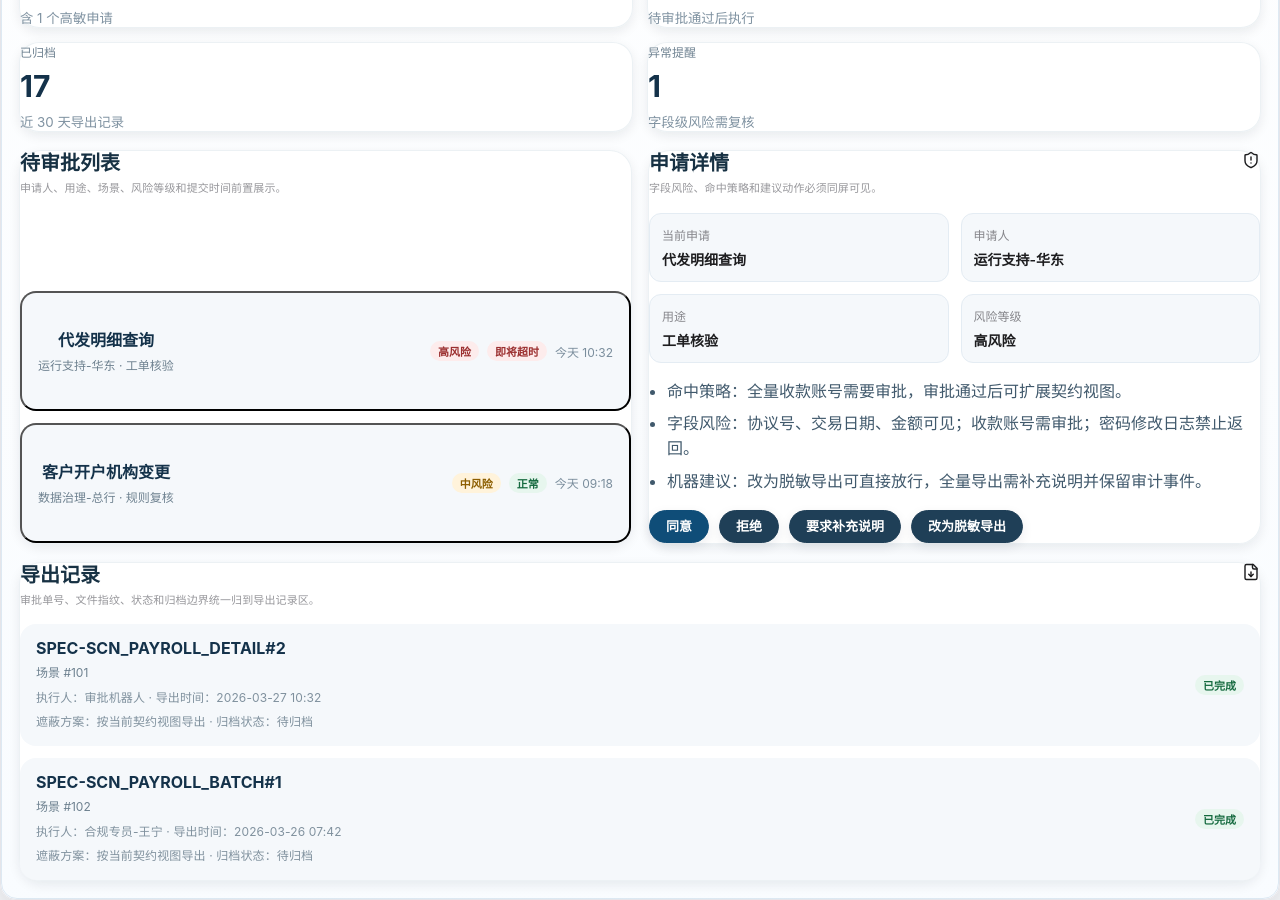
Test: ApprovalExportPage actions › uses the newly selected approval scene instead of the frozen context scene when exporting
The width and height of the screenshot is (1280, 900).
(page scrolled)
Check: the text "SPEC-SCN_PAYROLL_DETAIL#2" is shown, box [36, 638, 286, 658]
Click the button "客户开户机构变更" at (106, 472), box [20, 423, 631, 543]
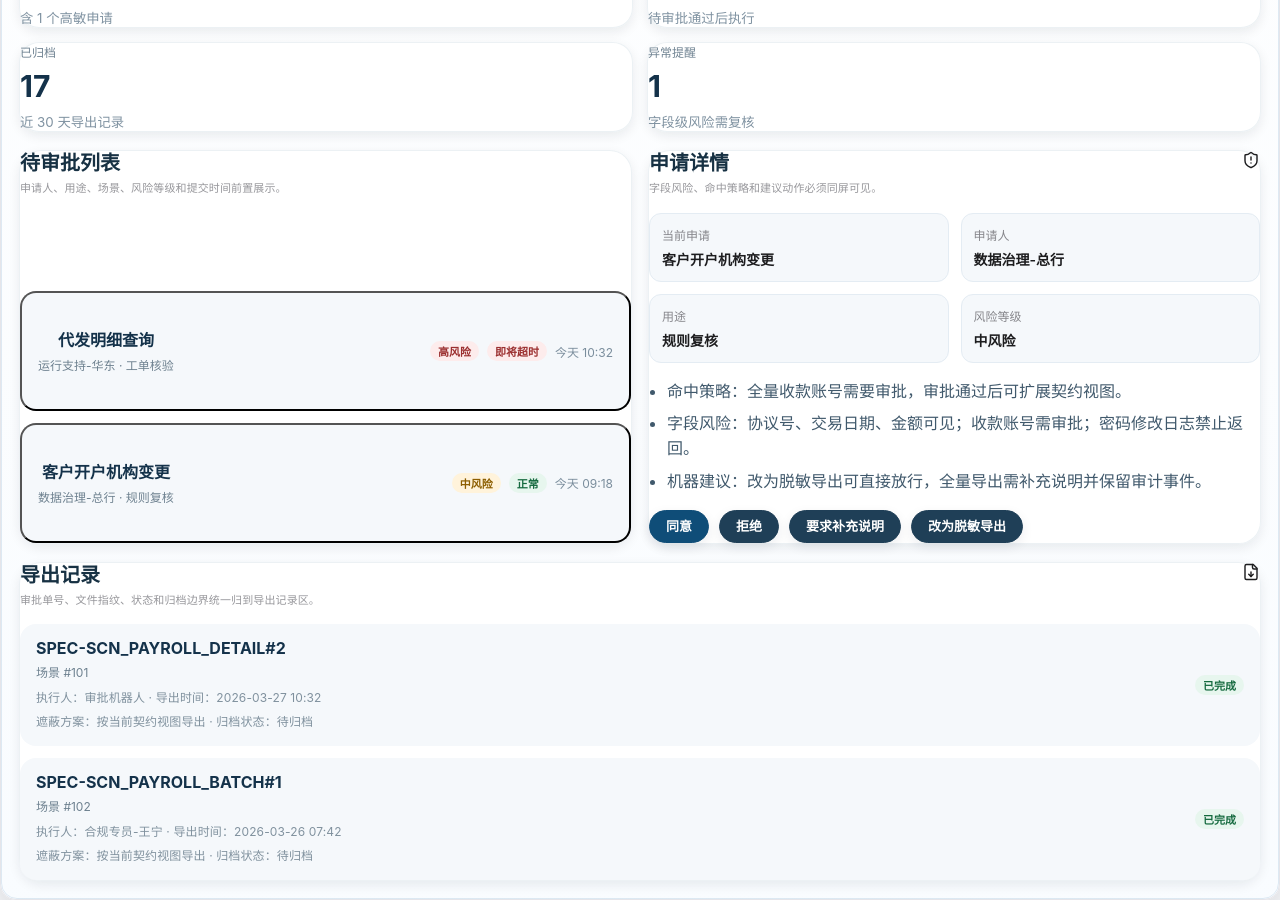
Click the button "改为脱敏导出" at (967, 526), box [911, 510, 1023, 543]
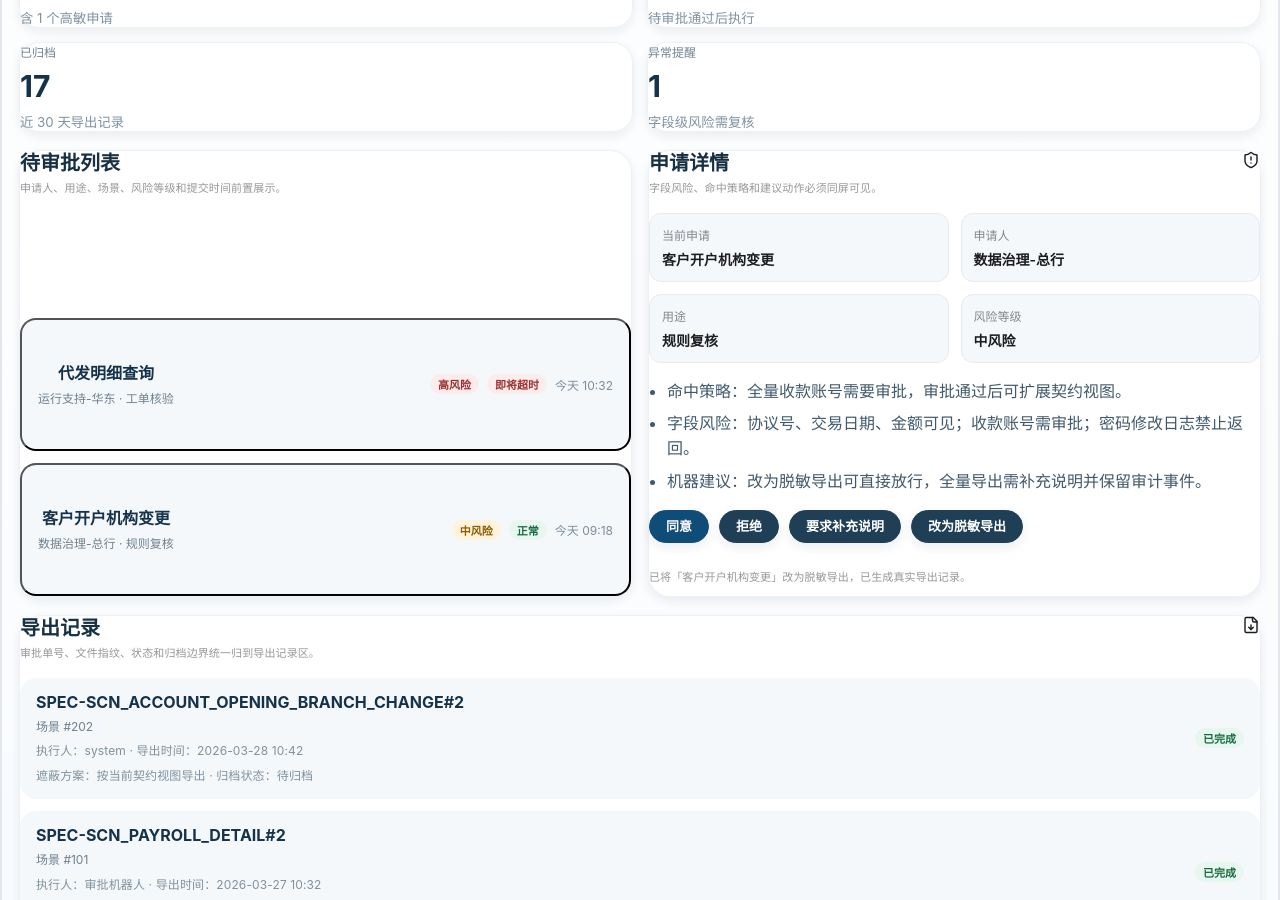
Check: the text "SPEC-SCN_ACCOUNT_OPENING_BRANCH_CHANGE#2" is shown, box [36, 692, 464, 712]
Check: the text "已将「客户开户机构变更」改为脱敏导出，已生成真实导出记录。" is shown, box [649, 570, 971, 584]
